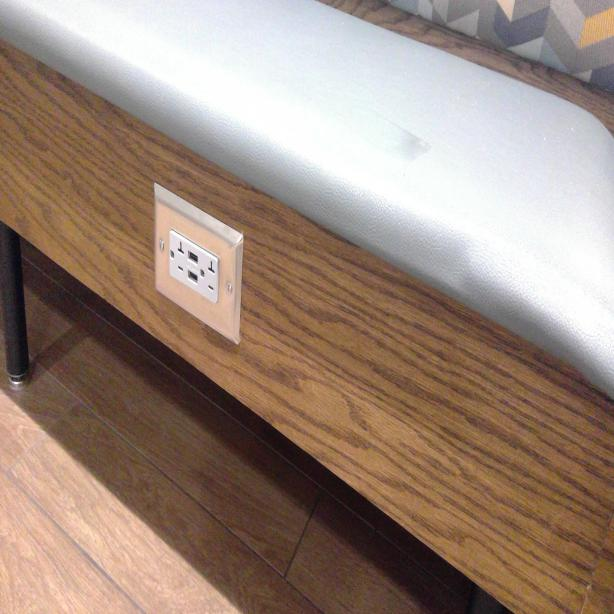typeb: (198, 248, 220, 298), (167, 232, 188, 279)
